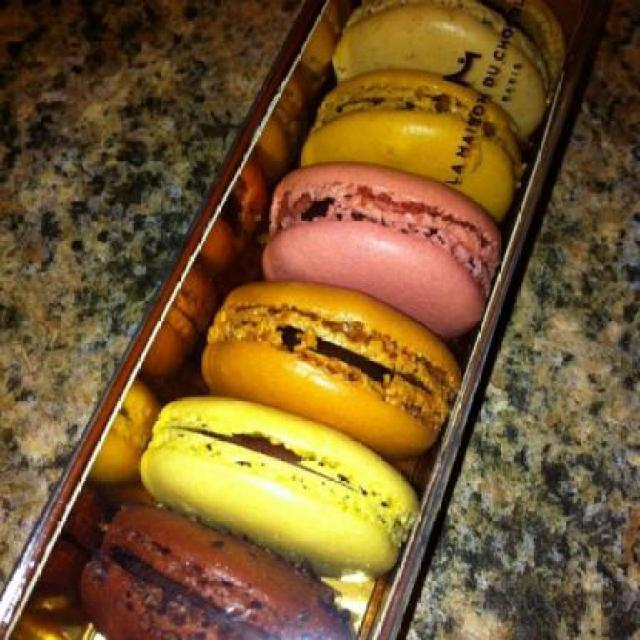Macaron: (70, 4, 572, 638)
